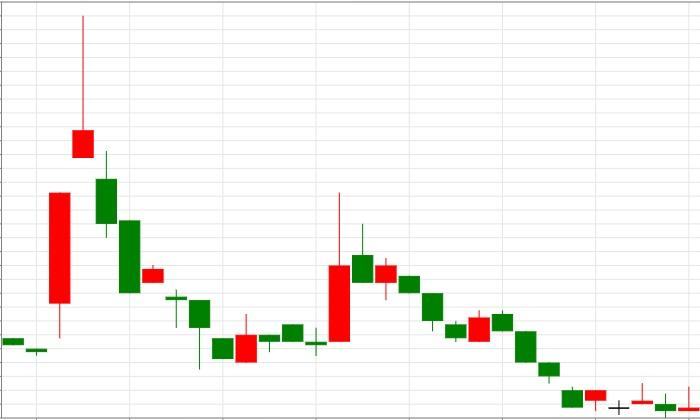shooting_star_fall: (2, 14, 94, 356)
